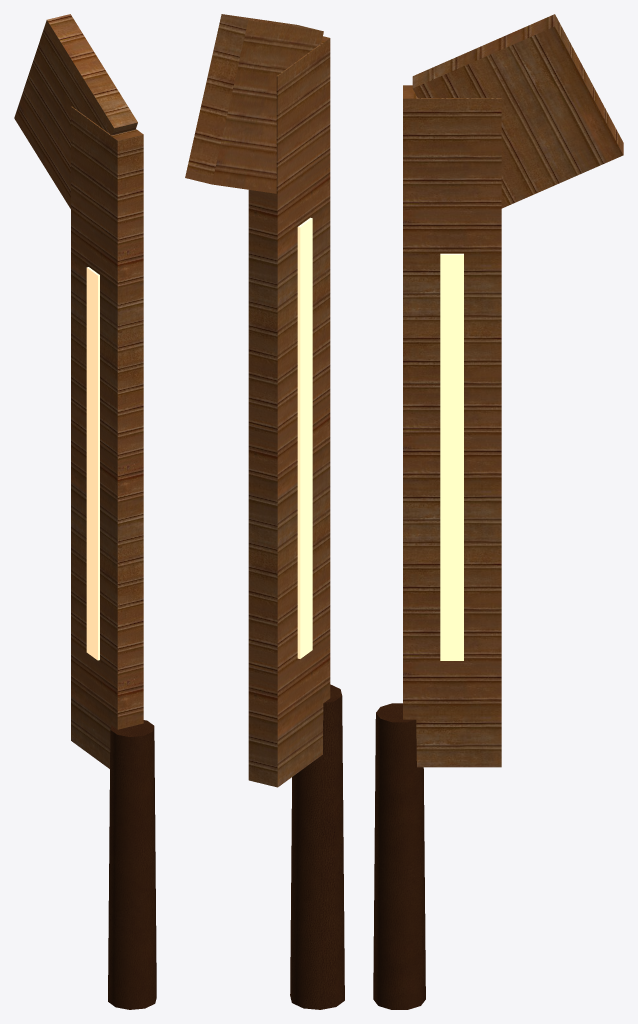
Rendered from wpn_torment_links.glb.
3 views of the same model, side by side, from view 1: azimuth 30°, elevation 25°; view 2: azimuth 150°, elevation 25°; view 3: azimuth 270°, elevation 25° (orthographic). The views are drawn at different scales.
Parts seen in each view (by area): view 1: WPN_TormentLinks; view 2: WPN_TormentLinks; view 3: WPN_TormentLinks.
Part boxes in pixels (<box>): WPN_TormentLinks: <box>14,14,156,1009</box>; WPN_TormentLinks: <box>185,14,344,1009</box>; WPN_TormentLinks: <box>373,14,623,1009</box>.
Bounding box in the file's own units: 0.038 × 0.8201 × 0.1901.
Materials: 3 (2 with a texture image).
